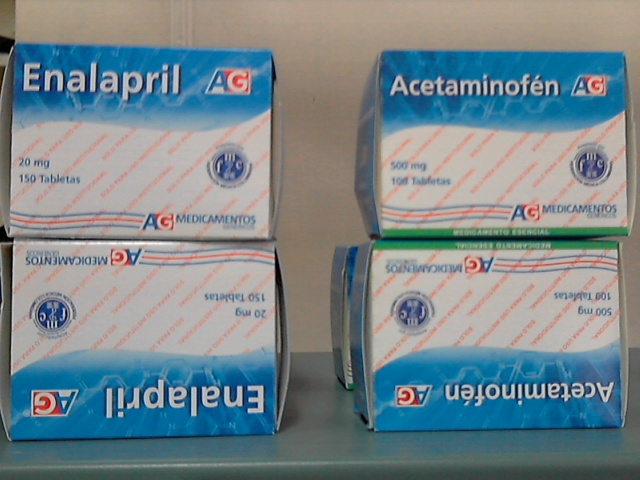AG: (12, 243, 277, 434), (14, 47, 268, 239), (384, 51, 629, 236), (374, 245, 621, 426)
